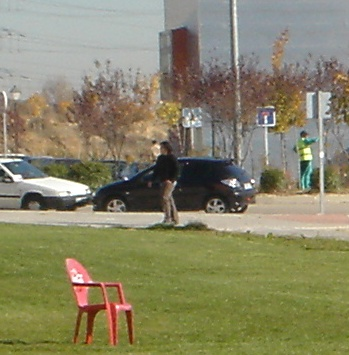person: (150, 137, 182, 224), (289, 127, 319, 188)
